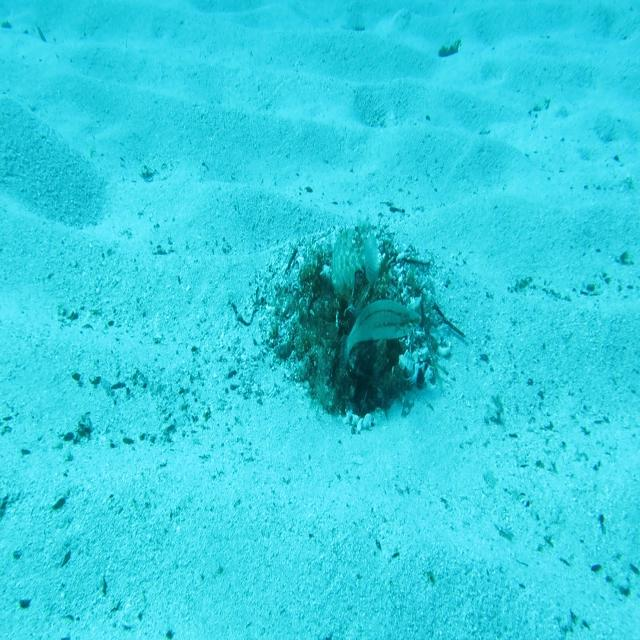NIP_CORE: (322, 222, 382, 301)
core_nest: (318, 272, 367, 321)
female: (336, 296, 424, 382)
nest: (248, 208, 460, 445)
vegetation: (438, 38, 462, 58)
